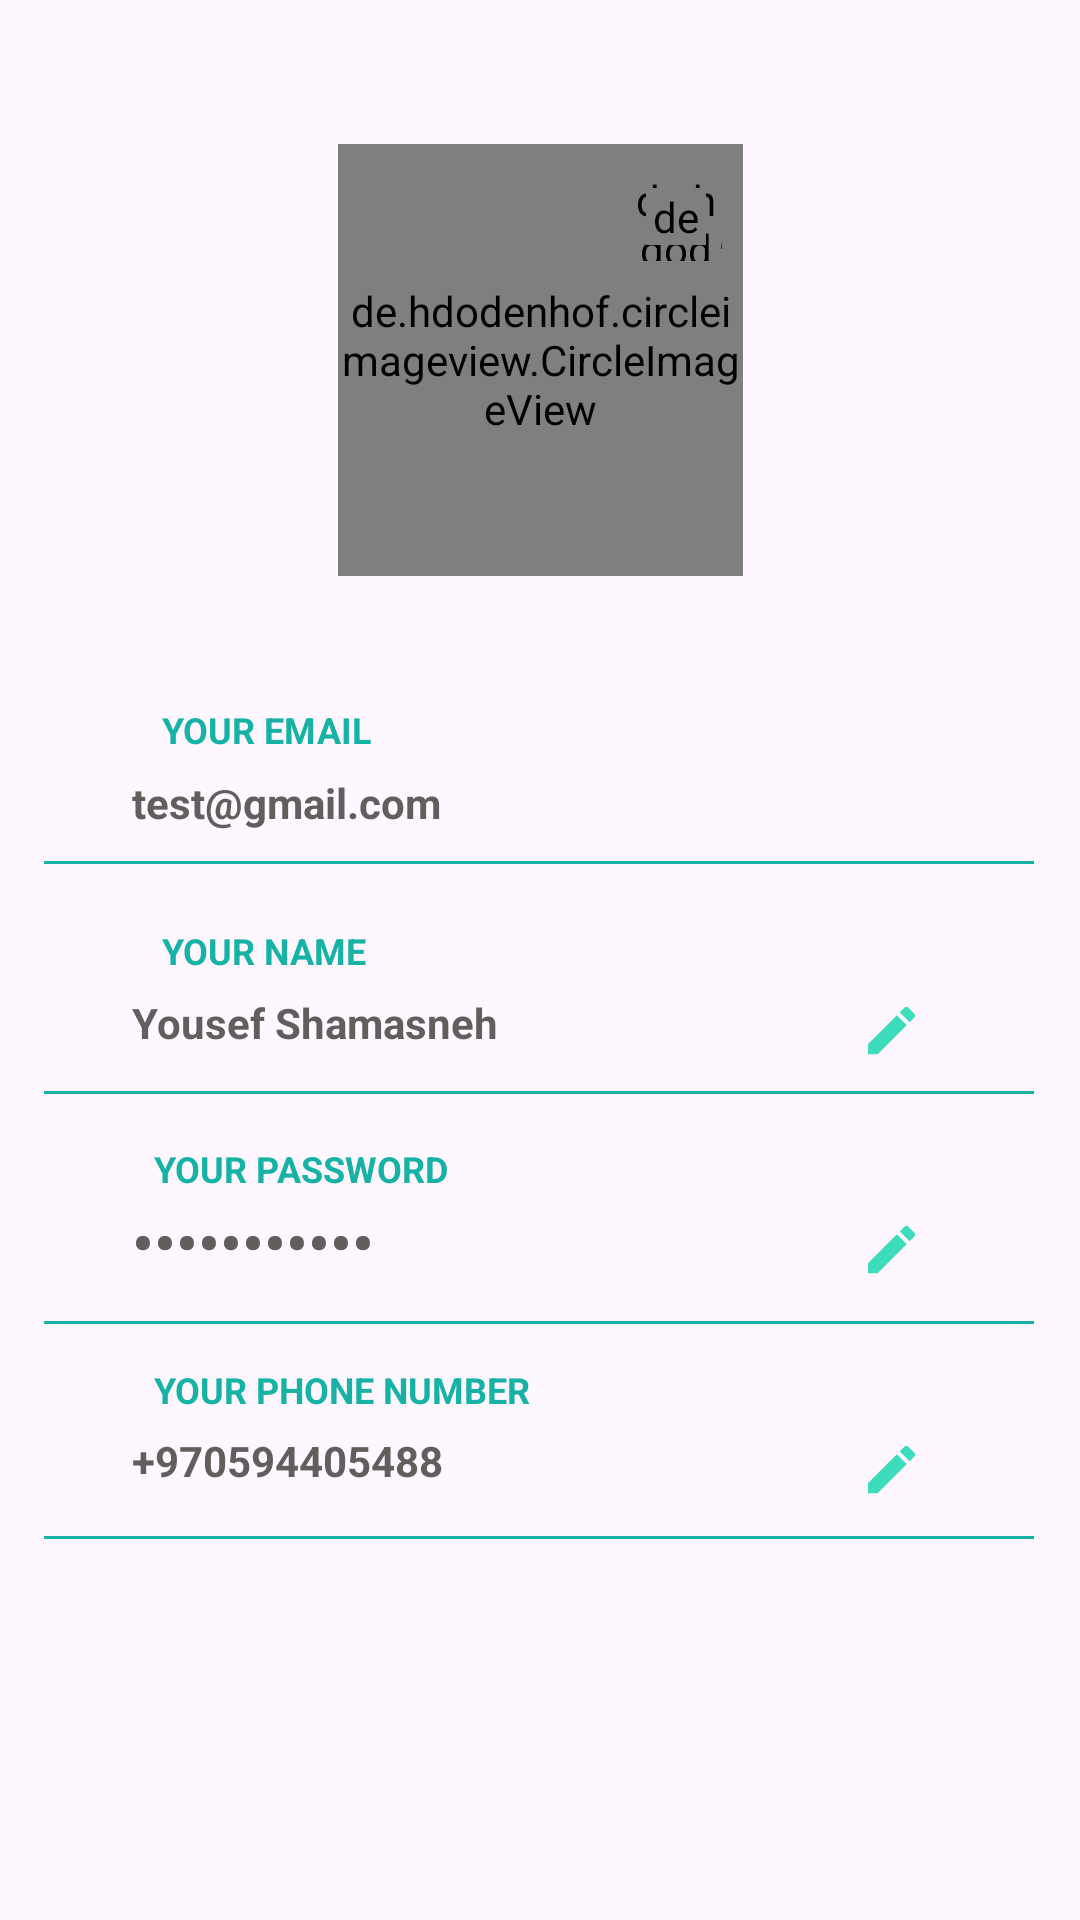

Icon bounding boxes for this 1080×1920 phone screenshot, format (x1, y1, x2, y2):
edit: (868, 1007, 915, 1055), (868, 1226, 915, 1274), (868, 1446, 915, 1494)
